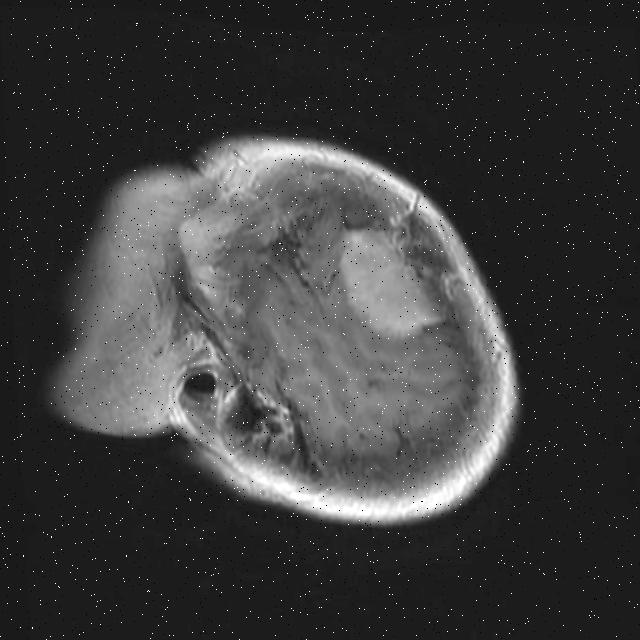Meningioma: (334, 220, 447, 343)
